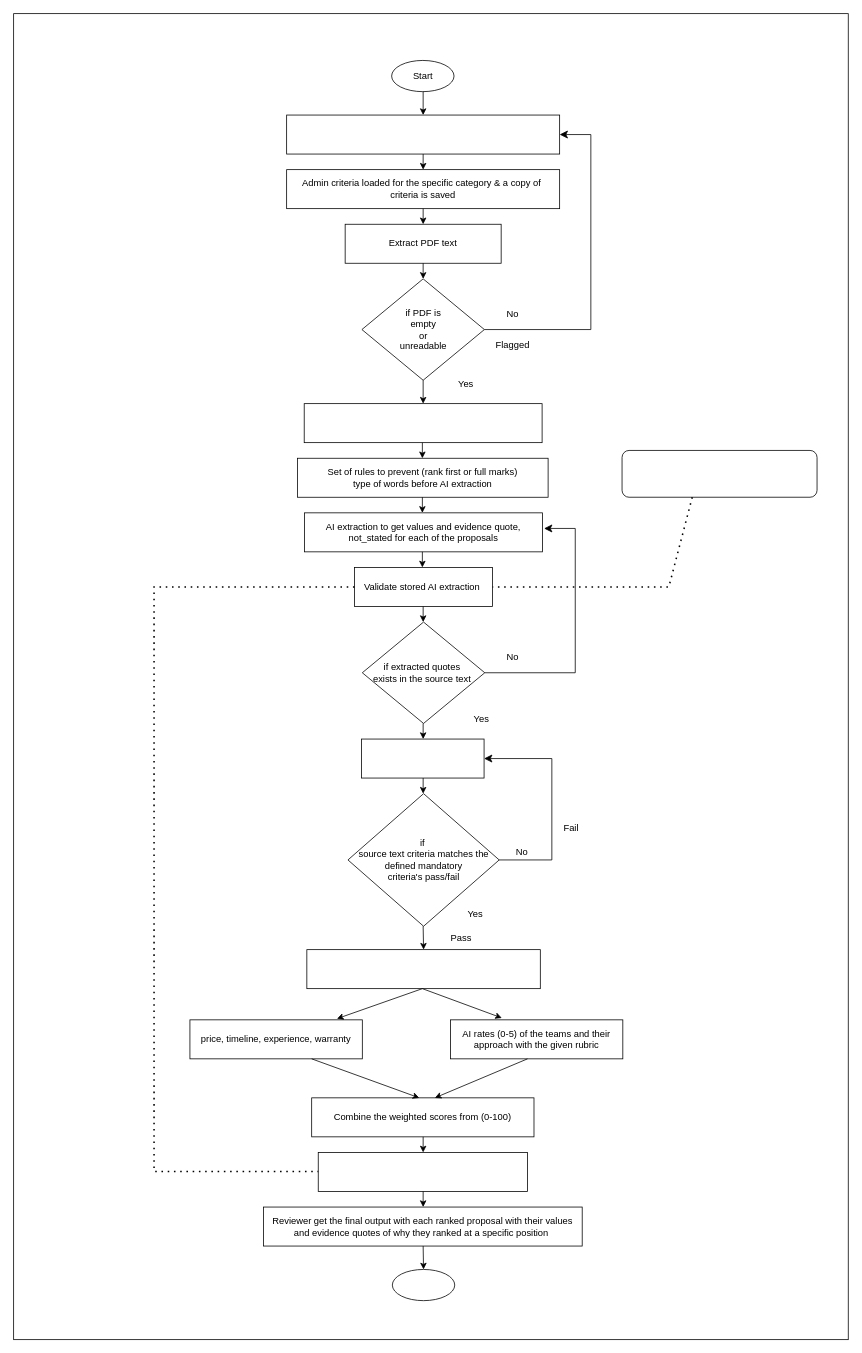
The diagram is 862 pixels wide and 1353 high, and some of its shapes have lost their labels. Here are the shapes that lost their labels. From the top down, the centre of each, then its label:
At [423,134]: "Reviewer uploads the proposal and select a category".
At [422,423]: "Safety Scan to treat proposal text as Data only".
At [719,473]: "Audit logs from which reviewer can change criteria, prompt and model version".
At [422,758]: "Mandatory criteria gates".
At [423,969]: "Set of rules to check other criteria values with the source text".
At [422,1171]: "Build reasons from the stored evidence and combined scores".
At [423,1285]: "End".
